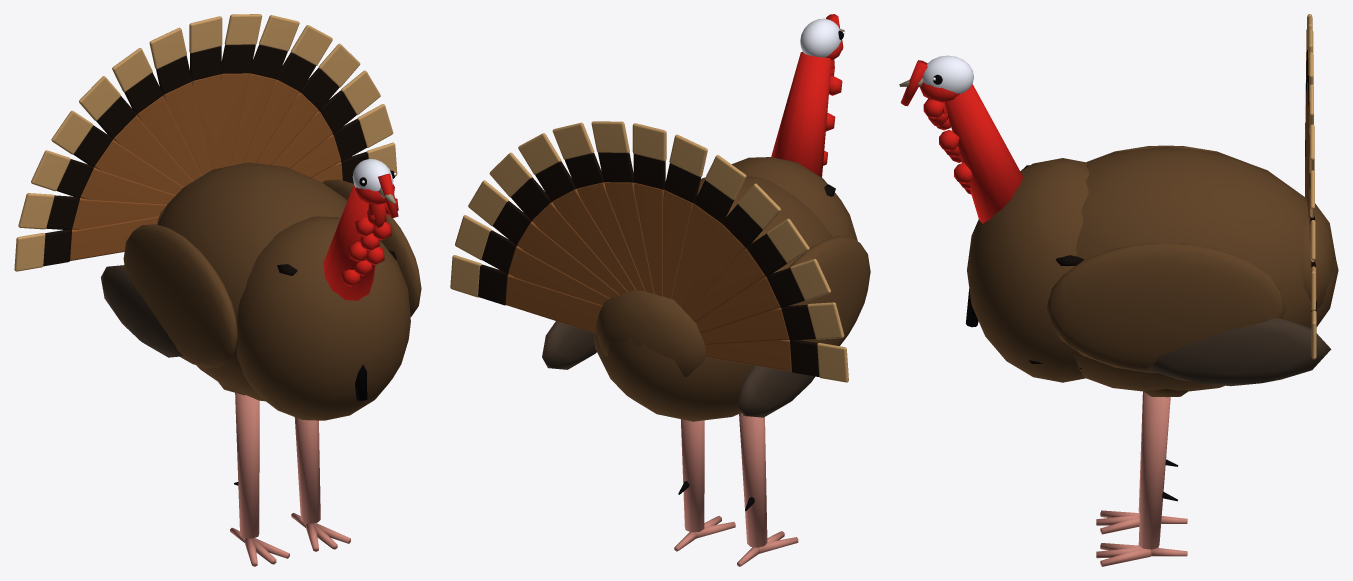
Rendered from turkeytom.glb.
The picture shows the model from 3 angles, left to right: view 1: azimuth 30°, elevation 25°; view 2: azimuth 150°, elevation 25°; view 3: azimuth 270°, elevation 25°; orthographic projection. The views are drawn at different scales.
Parts seen in each view (by area): view 1: tk_breast, tk_body, tk_wingm, tk_leg, tk_prim, tk_neck, tk_leg.001, tk_feather, tk_feather.009, tk_feather.012, tk_feather.015, tk_feather.006 (+40 smaller); view 2: tk_body, tk_rump, tk_neck, tk_wingm, tk_breast, tk_leg, tk_feather.042, tk_prim, tk_leg.001, tk_feather.024, tk_feather.027, tk_feather.030 (+43 smaller); view 3: tk_body, tk_wingm.001, tk_breast, tk_prim.001, tk_neck, tk_leg.001, tk_rump, tk_headm.
Boxes of the visible parts, x1,y1,x2,y2 form: tk_breast: (237,216,410,420); tk_body: (157,162,347,401); tk_wingm: (123,224,237,367); tk_leg: (235,393,259,538); tk_prim: (101,265,182,357); tk_neck: (323,185,375,300); tk_leg.001: (294,417,320,523); tk_feather: (70,216,159,260); tk_feather.009: (94,139,183,195); tk_feather.012: (113,115,192,187); tk_feather.015: (136,96,201,181); tk_feather.006: (80,167,175,204); tk_body: (593,175,832,421); tk_rump: (595,290,705,377); tk_neck: (771,51,831,177); tk_wingm: (789,236,870,345); tk_breast: (732,157,857,240); tk_leg: (739,413,767,547); tk_feather.042: (505,274,602,333); tk_prim: (738,365,814,417); tk_leg.001: (681,419,704,532); tk_feather.024: (604,182,654,293); tk_feather.027: (577,182,645,291); tk_feather.030: (552,189,636,291); tk_body: (1073,146,1338,391); tk_wingm.001: (1046,243,1285,372); tk_breast: (967,158,1089,382); tk_prim.001: (1148,318,1331,386); tk_neck: (945,84,1022,223); tk_leg.001: (1138,392,1170,549); tk_rump: (1300,202,1335,307); tk_headm: (922,55,973,93).
Bounding box in the file's own units: 2.02 × 2.32 × 1.83.
